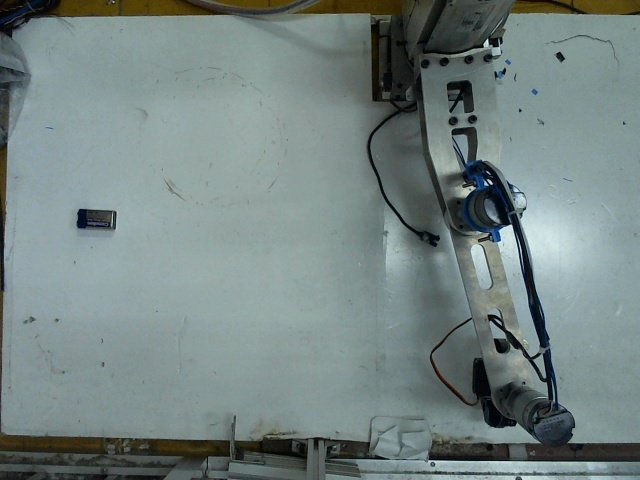battery: (71, 200, 118, 233)
